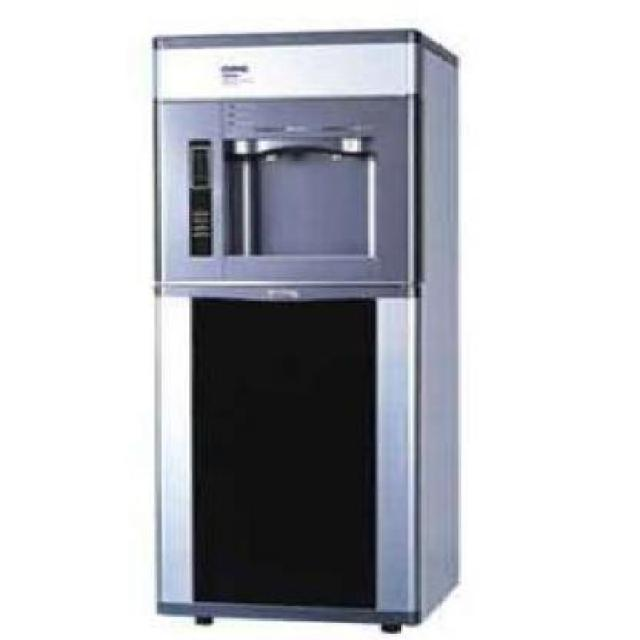cooler: (141, 26, 467, 636)
